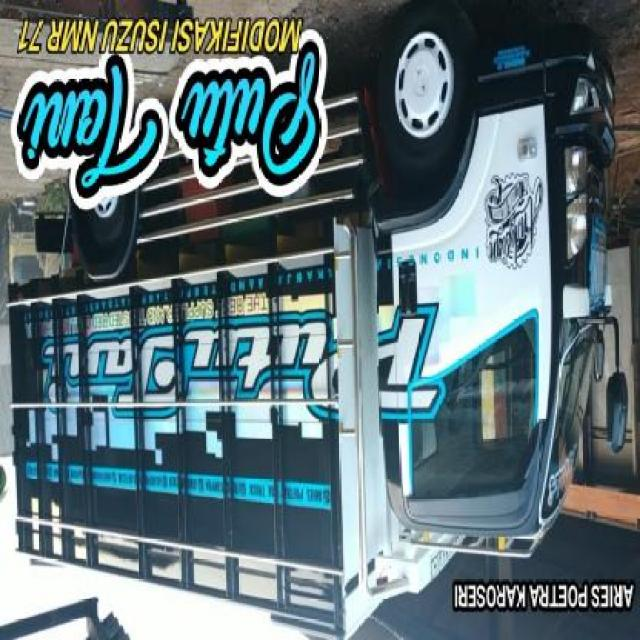truck: (13, 16, 621, 640)
